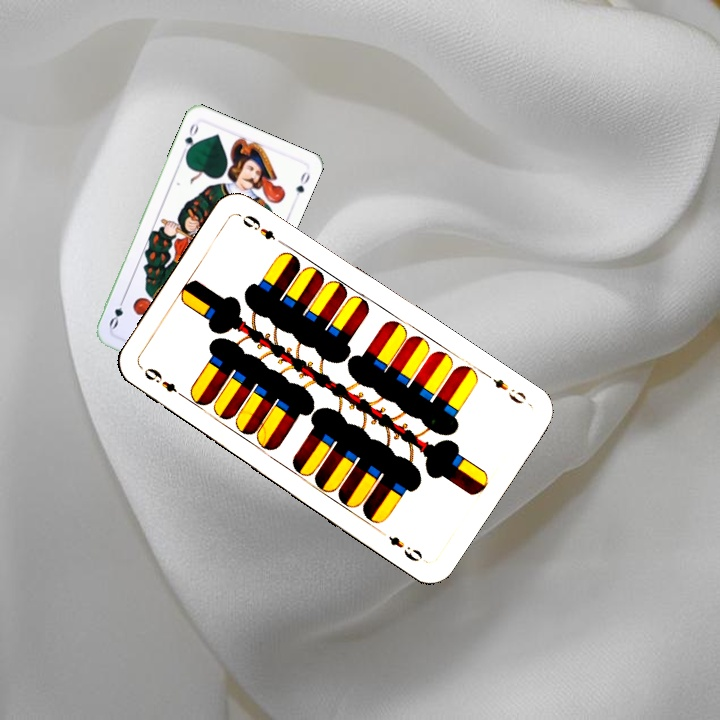E9: (480, 368, 529, 407), (139, 363, 188, 401)
GO: (181, 118, 201, 158)
